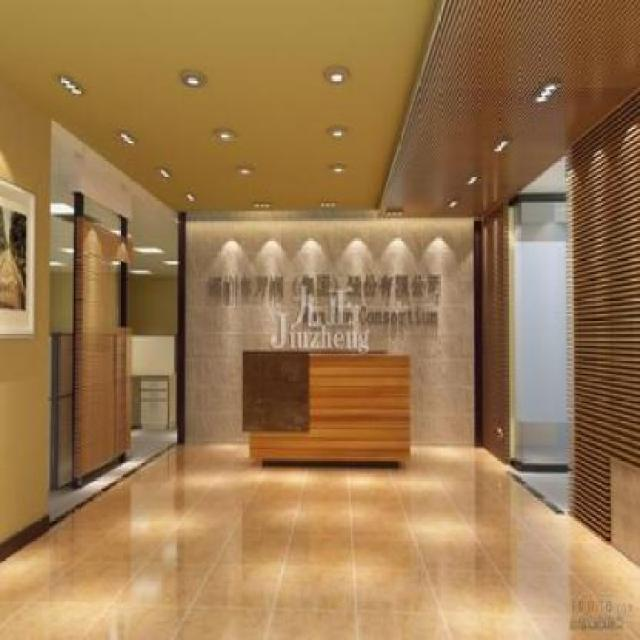frontdesk: (237, 341, 421, 477)
